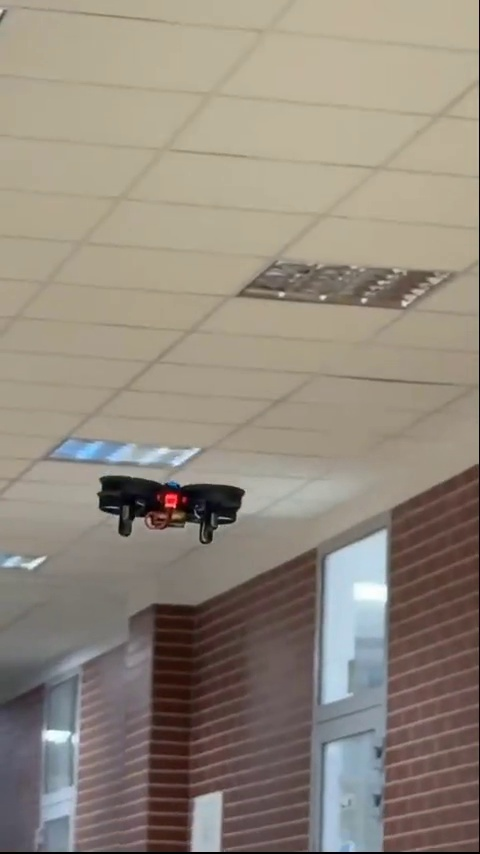drone: (98, 470, 248, 550)
